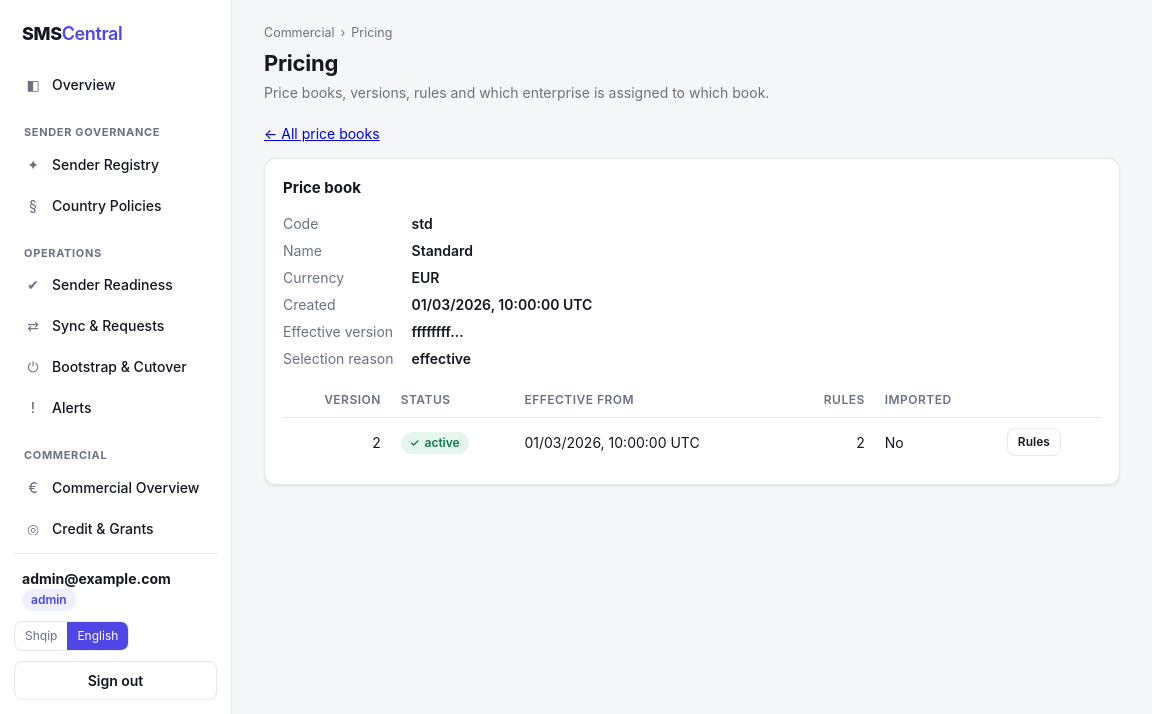
pricing › 15 book detail lists versions; rules load from the server and show exact unit prices
Expected: the navigation bar named "Main navigation" is shown, [14,65,217,535]
Click the button with aria-label "Rules of version 2" at (1034, 442), box [1007,428,1061,456]
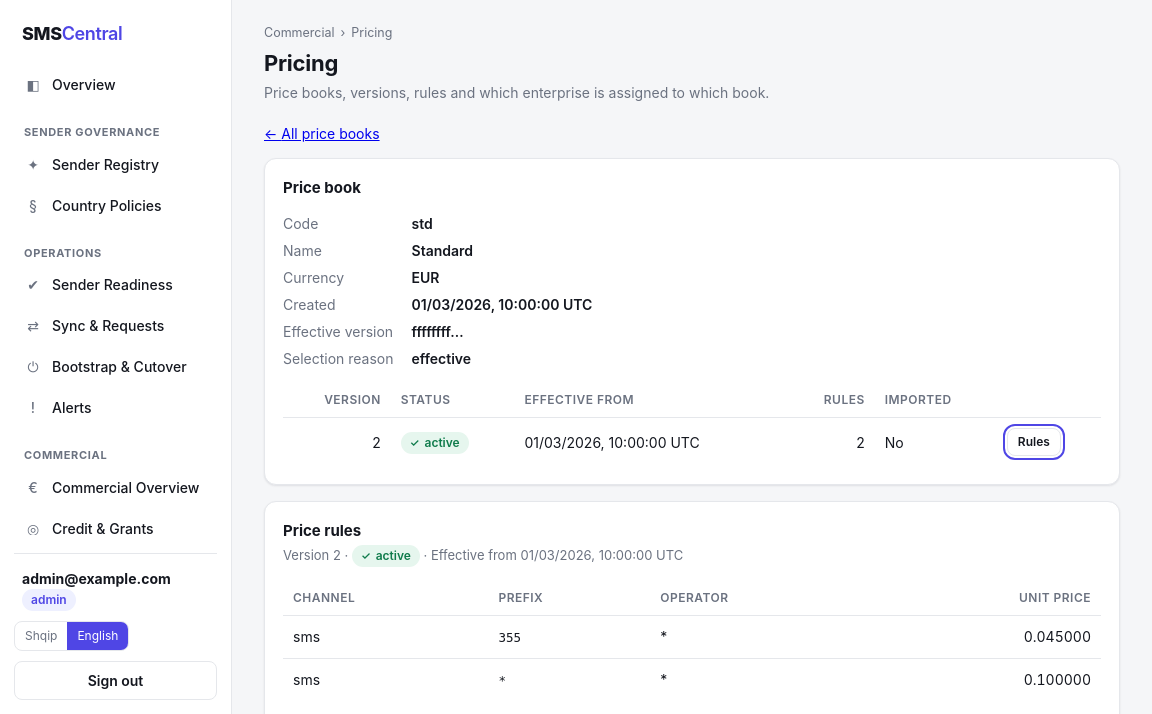
Now the text "0.045000" is shown, box [1024,628,1091,645]
Now the text "355" is shown, box [498,630,521,645]
